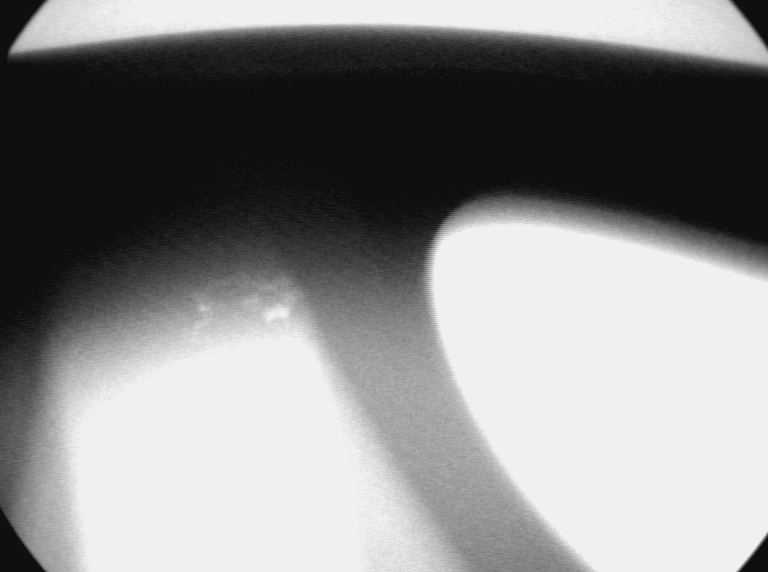defect: (181, 269, 305, 350)
